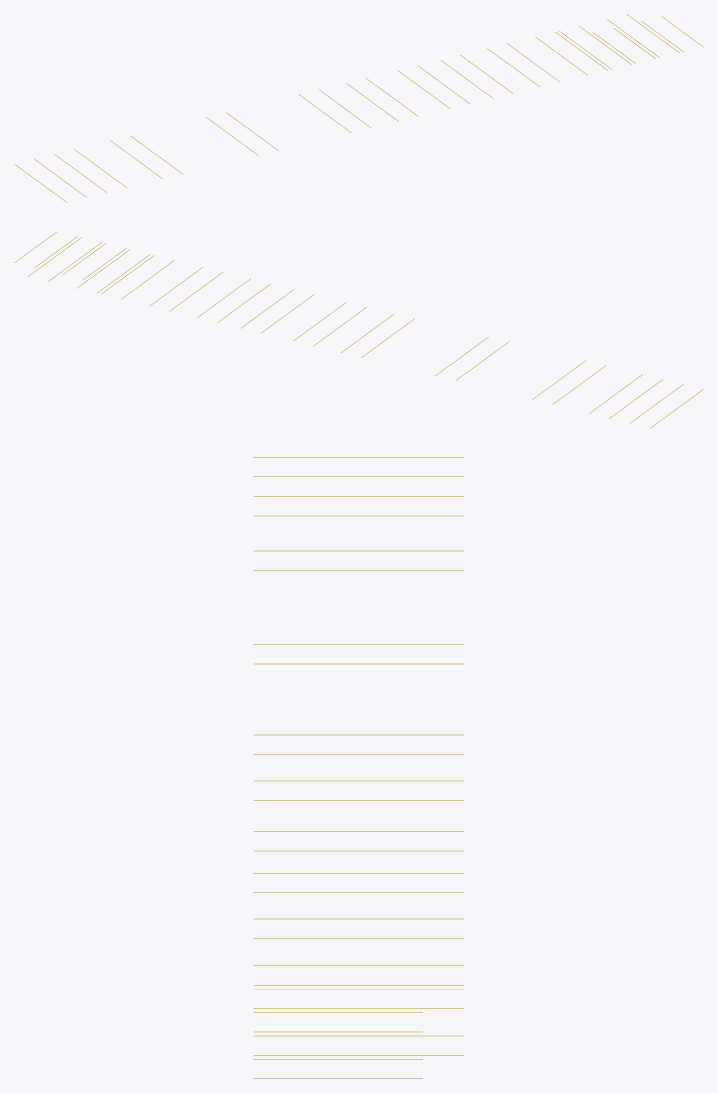
File: SM_MPRR_DockLines_0_0.fbx
3 renders of one model, top to bottom at view 1: azimuth 30°, elevation 25°; view 2: azimuth 150°, elevation 25°; view 3: azimuth 270°, elevation 25°, orthographic. The views are drawn at different scales.
Parts seen in each view (by area): view 1: SM_MPRR_DockLines_0_0; view 2: SM_MPRR_DockLines_0_0; view 3: SM_MPRR_DockLines_0_0.
Boxes of the visible parts, x1=… form: SM_MPRR_DockLines_0_0: x1=14, y1=14, x2=703, y2=202; SM_MPRR_DockLines_0_0: x1=14, y1=232, x2=703, y2=428; SM_MPRR_DockLines_0_0: x1=253, y1=457, x2=464, y2=1078.
Size of the model in its own units: 10554 by 1513 by 0.
